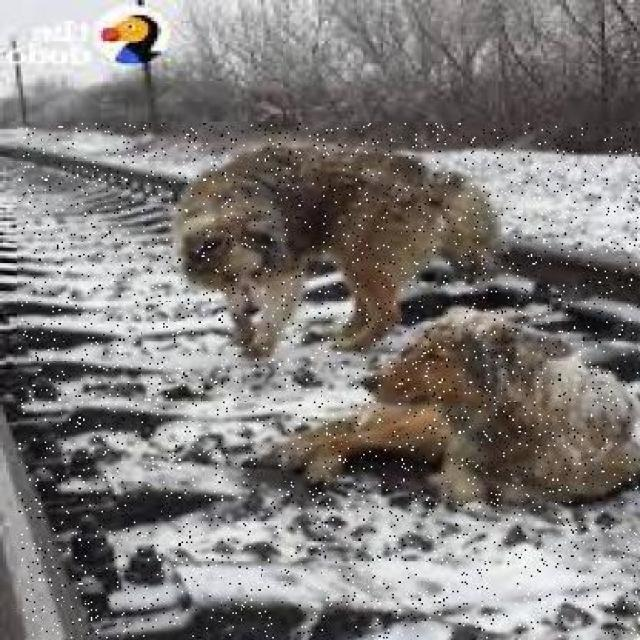danger: (254, 317, 640, 546), (148, 150, 520, 327)
rail: (18, 123, 637, 638)
